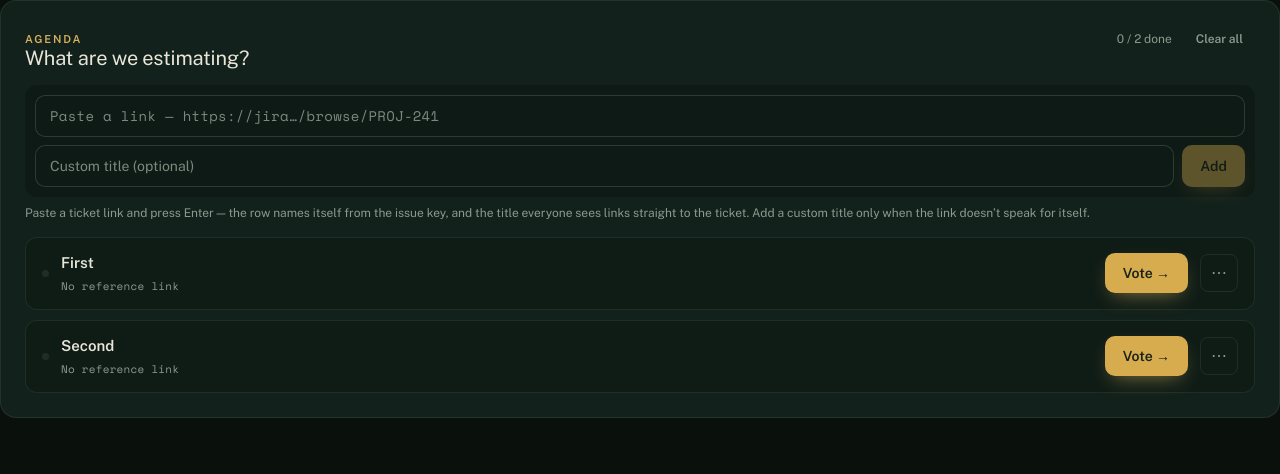
Test case: Agenda › the overflow menu › closes on Escape
This screenshot has width=1280, height=474.
Click the button named "more actions for First" at (1219, 273), box top-left (1200, 254), bottom-right (1238, 292)
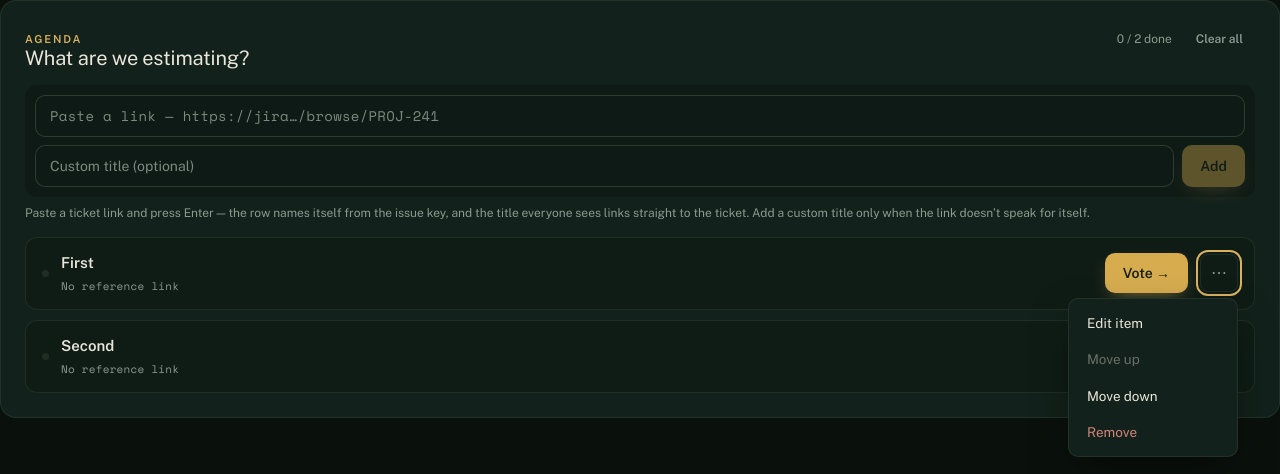
Check: the button "Remove" is shown, box top-left (1075, 414), bottom-right (1231, 450)
Press Escape
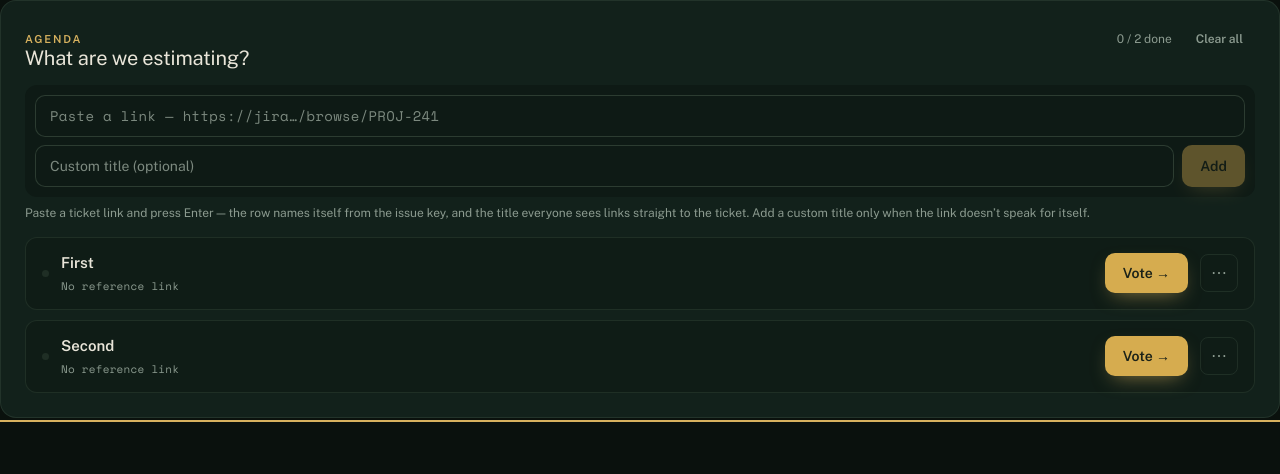
Check: the button "Remove" is gone
